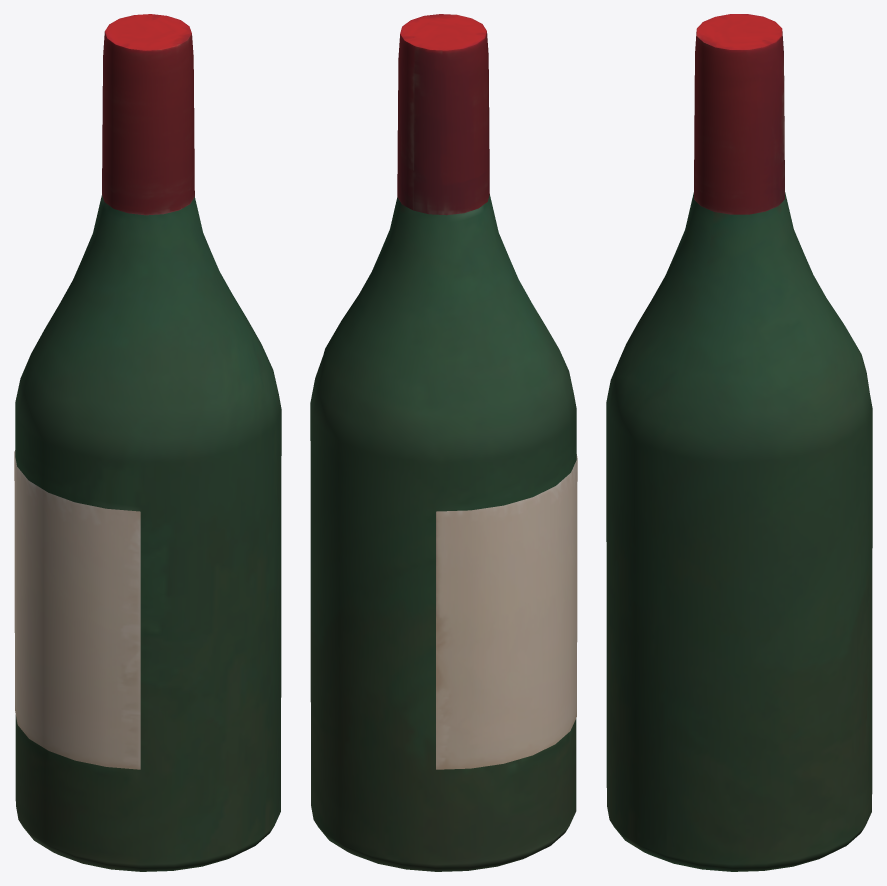
File: SM_Bottles_08.fbx
3 views of the same model, side by side, from view 1: azimuth 30°, elevation 25°; view 2: azimuth 150°, elevation 25°; view 3: azimuth 270°, elevation 25° (orthographic).
Visible parts, largest first — view 1: SM_Bottles_08_LOD0; view 2: SM_Bottles_08_LOD0; view 3: SM_Bottles_08_LOD0.
Part boxes in pixels (bbox=[...]): SM_Bottles_08_LOD0: bbox=[14, 14, 281, 871]; SM_Bottles_08_LOD0: bbox=[310, 14, 577, 871]; SM_Bottles_08_LOD0: bbox=[606, 14, 872, 871].
Size of the model in its own units: 8.82 by 8.79 by 28.84.
